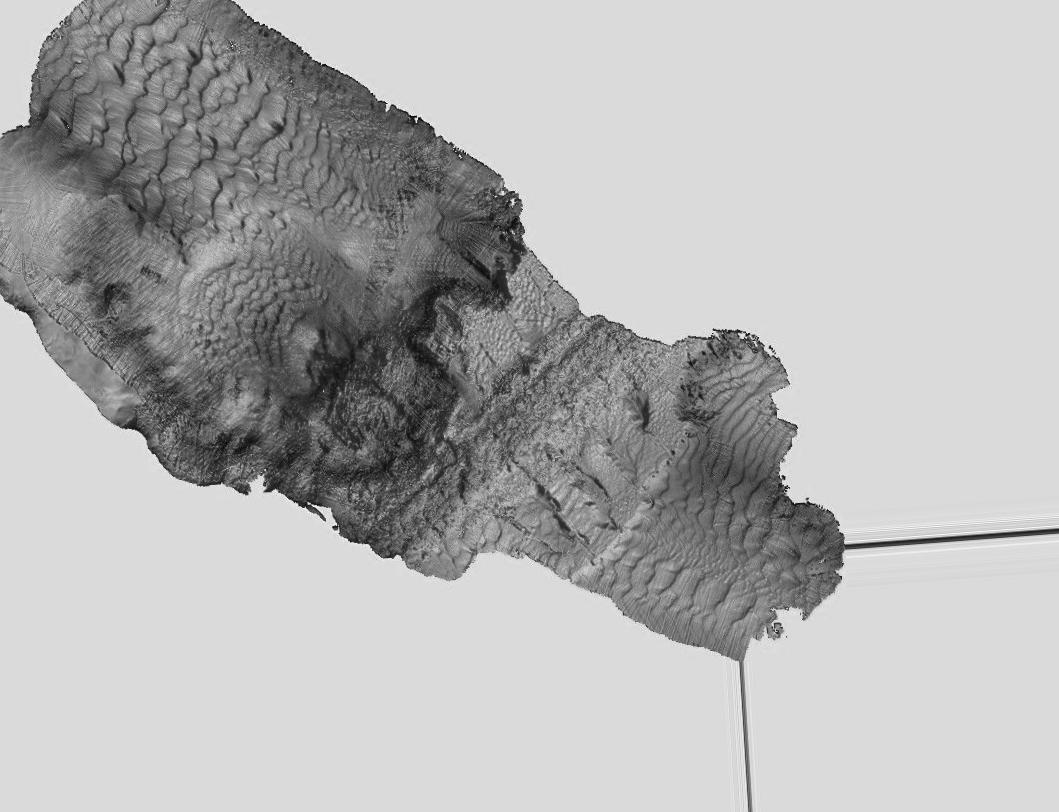Dune: (78, 25, 284, 214), (598, 537, 775, 656), (181, 252, 292, 342)
Scarp: (119, 416, 403, 597)
Scour pit: (268, 307, 374, 414)
Submerged dike: (394, 432, 526, 583), (506, 306, 645, 437), (448, 387, 560, 506)
